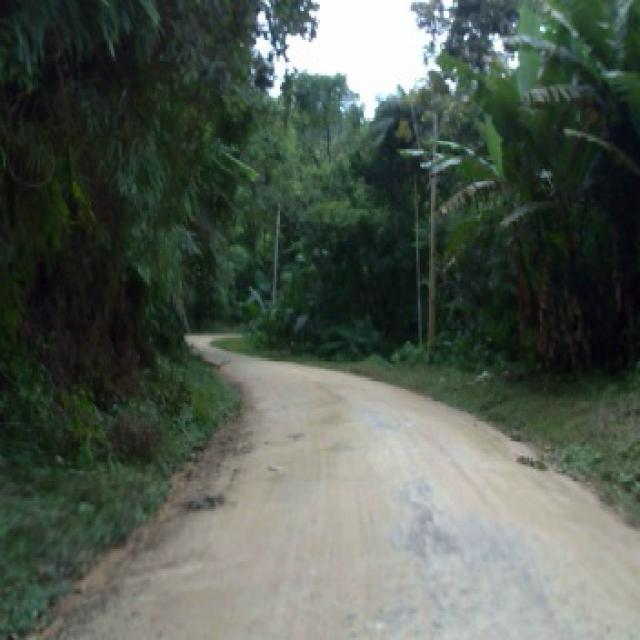Poth-hole: (391, 480, 467, 558)
